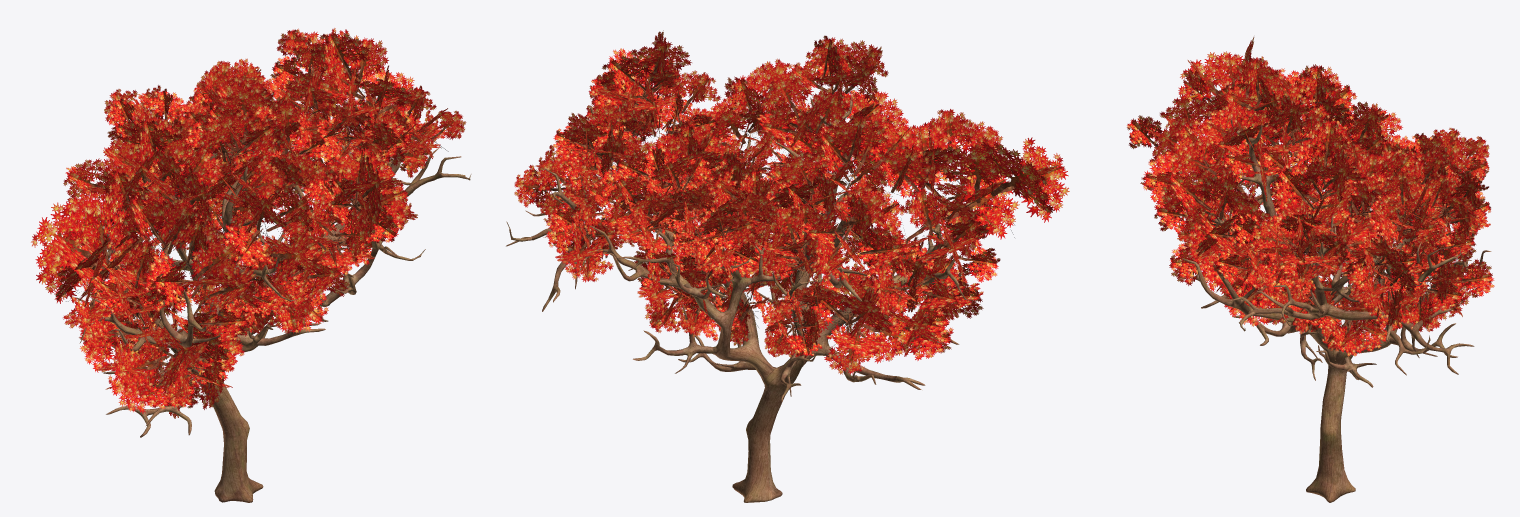
Rendered from maple.glb.
The picture shows the model from 3 angles, left to right: view 1: azimuth 30°, elevation 25°; view 2: azimuth 150°, elevation 25°; view 3: azimuth 270°, elevation 25°; orthographic projection. The views are drawn at different scales.
Visible parts, largest first — view 1: Forest_maple; view 2: Forest_maple; view 3: Forest_maple.
Part boxes in pixels (box(x1,y1,x2,y2)): Forest_maple: box(31, 28, 471, 502); Forest_maple: box(506, 30, 1069, 502); Forest_maple: box(1127, 37, 1494, 502).
Size of the model in its own units: 4.47 by 3.98 by 3.27.
Materials: 1 (1 with a texture image).
